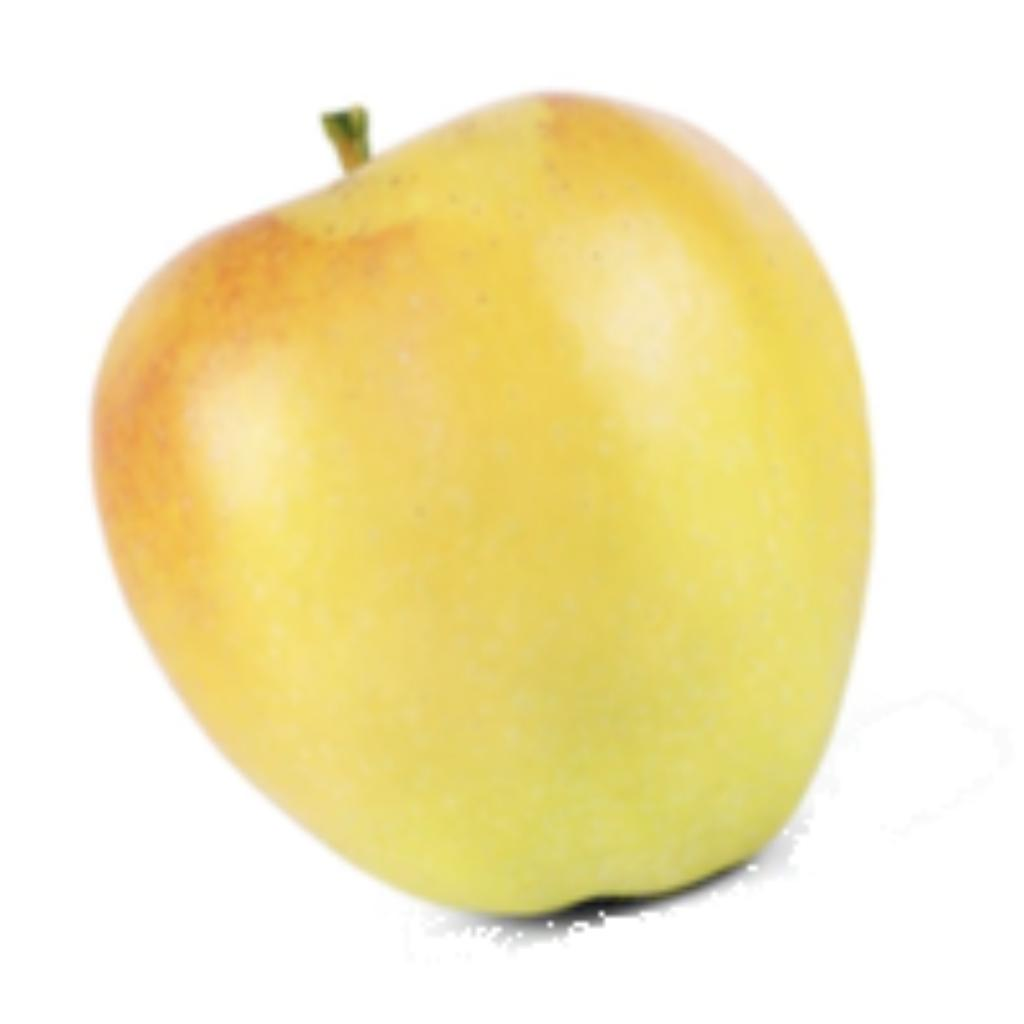apple: (82, 82, 937, 957)
